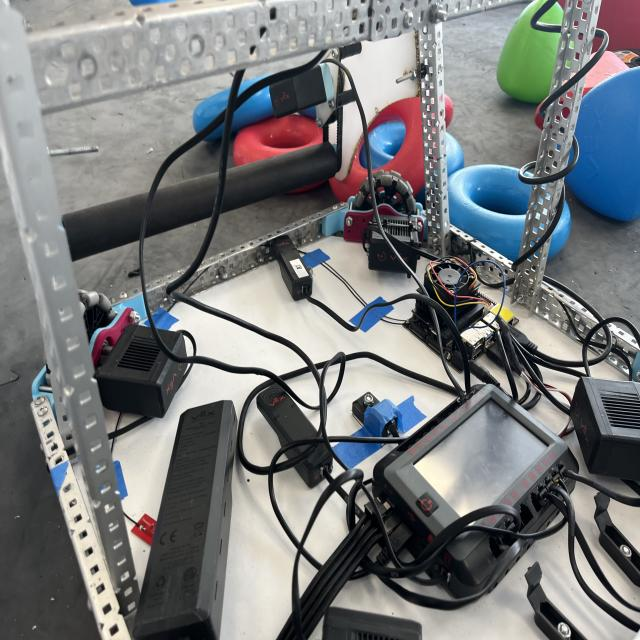Blue-Ring: (449, 165, 530, 260)
Red-Ring: (369, 97, 425, 195), (232, 113, 322, 167), (330, 140, 368, 202)
